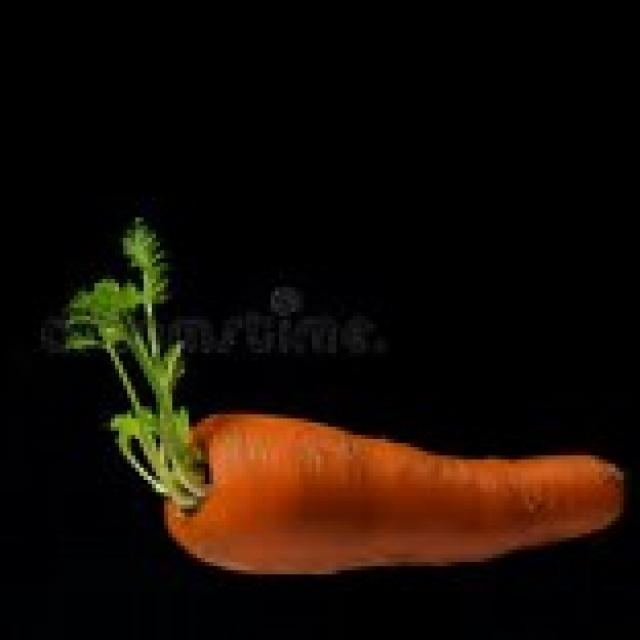Carrot: (155, 411, 630, 585)
